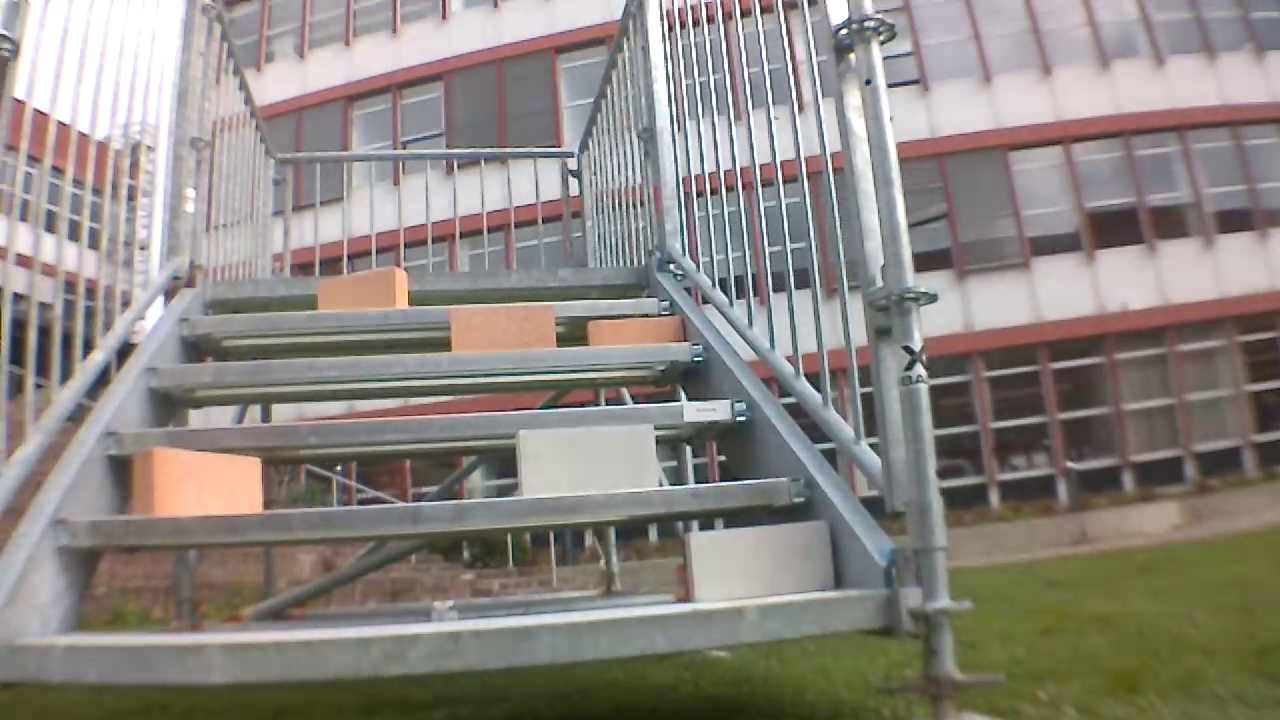brick: (685, 523, 834, 601), (515, 426, 655, 494), (133, 447, 262, 516), (450, 303, 555, 351), (316, 265, 408, 310), (587, 317, 683, 344)
edge: (7, 591, 891, 684), (52, 478, 808, 544), (106, 399, 750, 455), (145, 342, 706, 382), (180, 299, 669, 331), (208, 266, 645, 294)
stairs: (4, 4, 981, 714)
steps: (6, 264, 905, 696)
